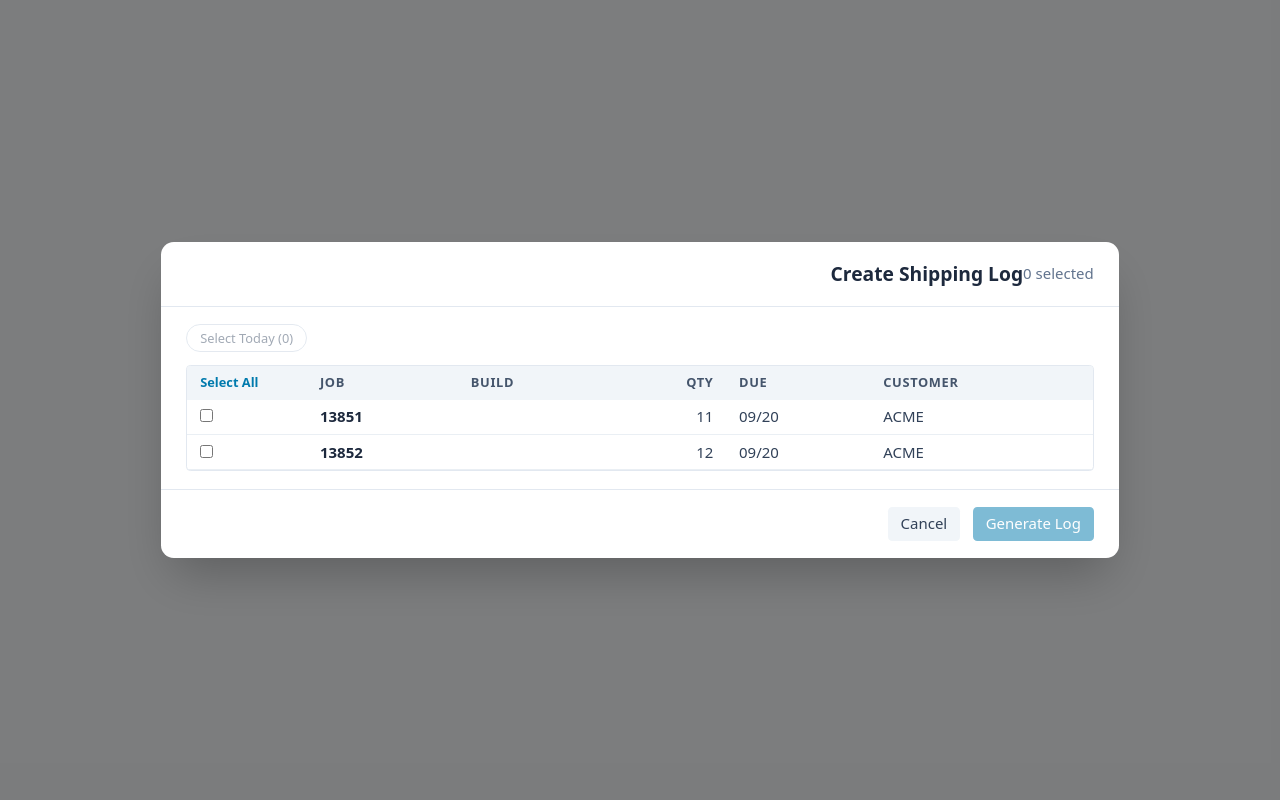
Test: CreateShippingLogModal › reads Select All again after a partial deselection
Click the button with test id "shipping-log-toggle-all": (229, 383) [200,374,258,391]
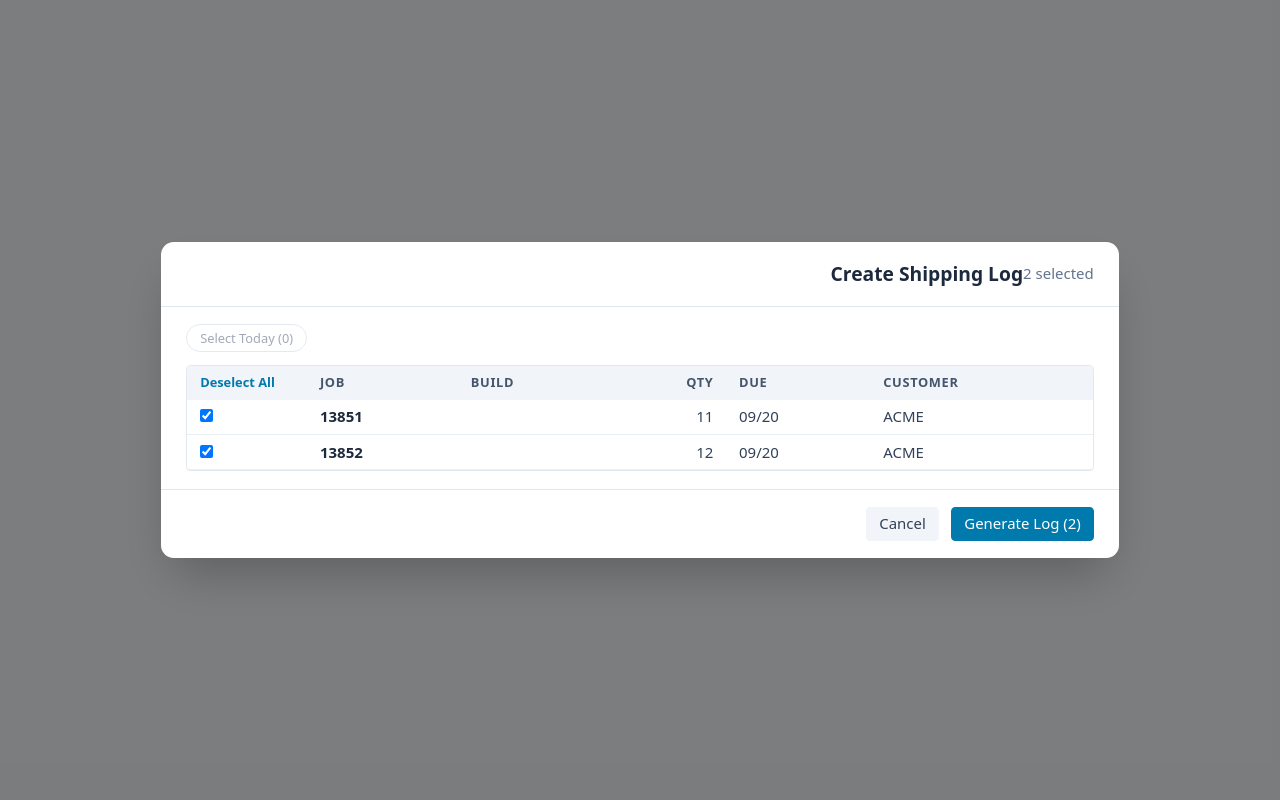
Now the button with test id "shipping-log-toggle-all" reads "Deselect All", box [200,374,275,391]
Click the checkbox named "Select 13852": (207, 451) [200,445,213,458]
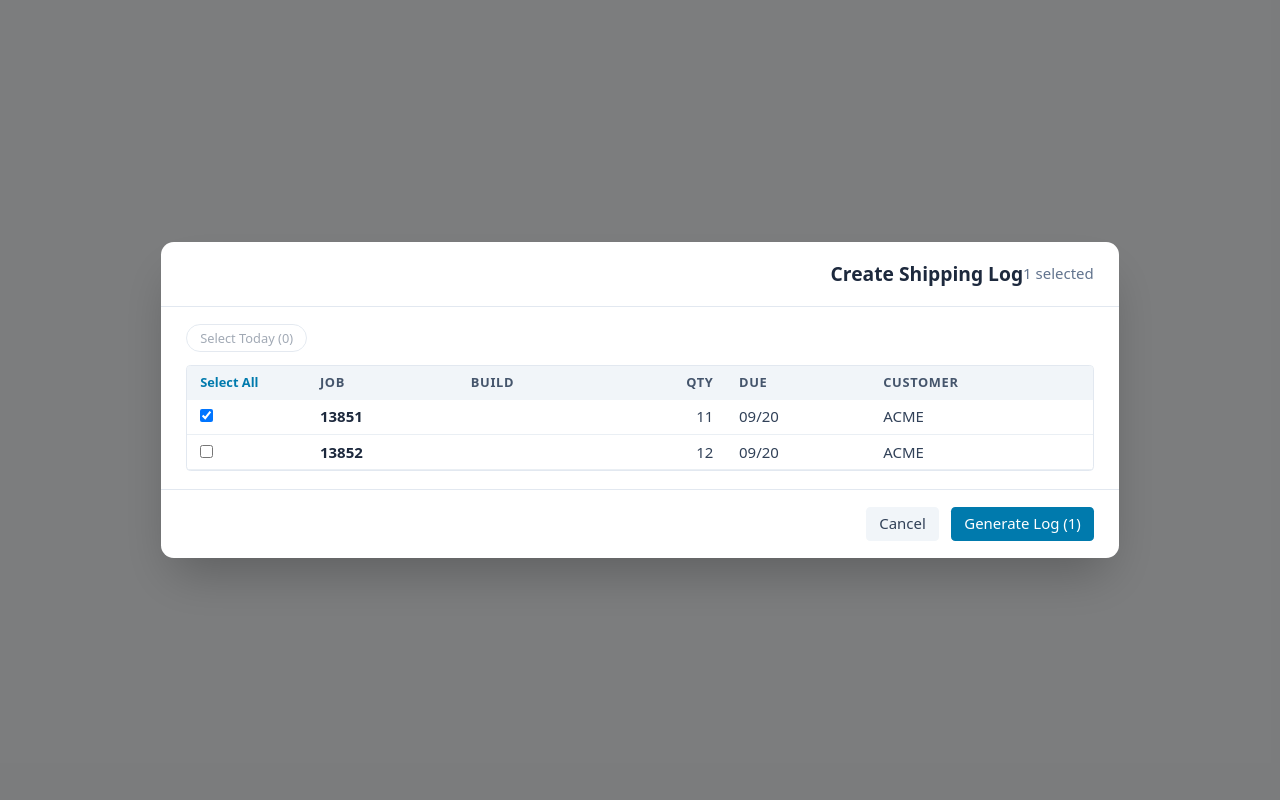
Now the button with test id "shipping-log-toggle-all" reads "Select All", box [200,374,258,391]
Now the button with test id "shipping-log-generate" reads "Generate Log (1)", box [951,507,1094,541]
